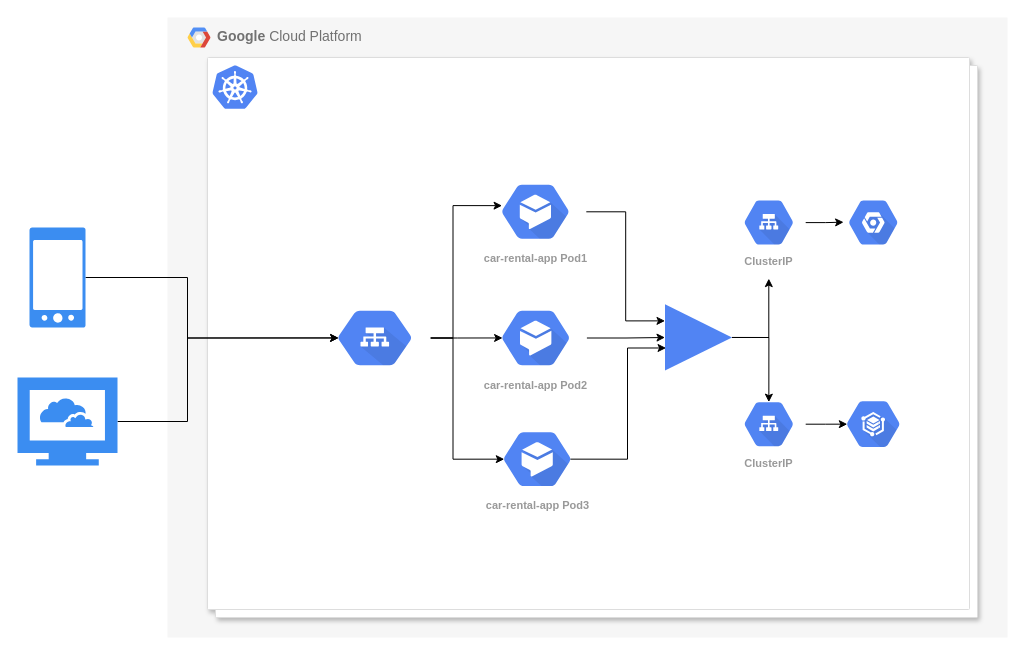
Some shapes in this 1024 by 654 pixel diagram are drawn without their labels. The shapes that lost their labels are listed below. From the top down, each one's centre as x and y in pixels, then its label:
At (873,222): "mysql pod".
At (374,337): "LoadBalancer".
At (873,423): "redis-master pod".
